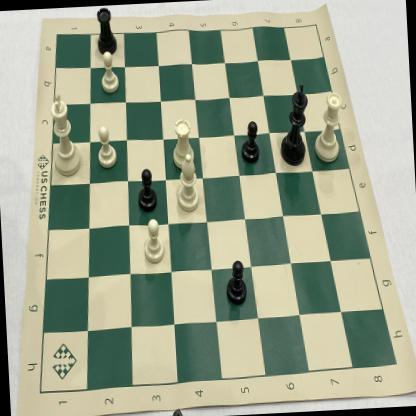bishop: (172, 152, 204, 218)
king: (46, 86, 86, 179), (274, 79, 314, 169)
pawn: (138, 215, 169, 268), (221, 255, 251, 308), (92, 122, 122, 174), (133, 164, 160, 216), (236, 116, 262, 168), (96, 50, 124, 98)
queen: (310, 85, 347, 166)
rook: (168, 110, 198, 171), (90, 5, 121, 60)
